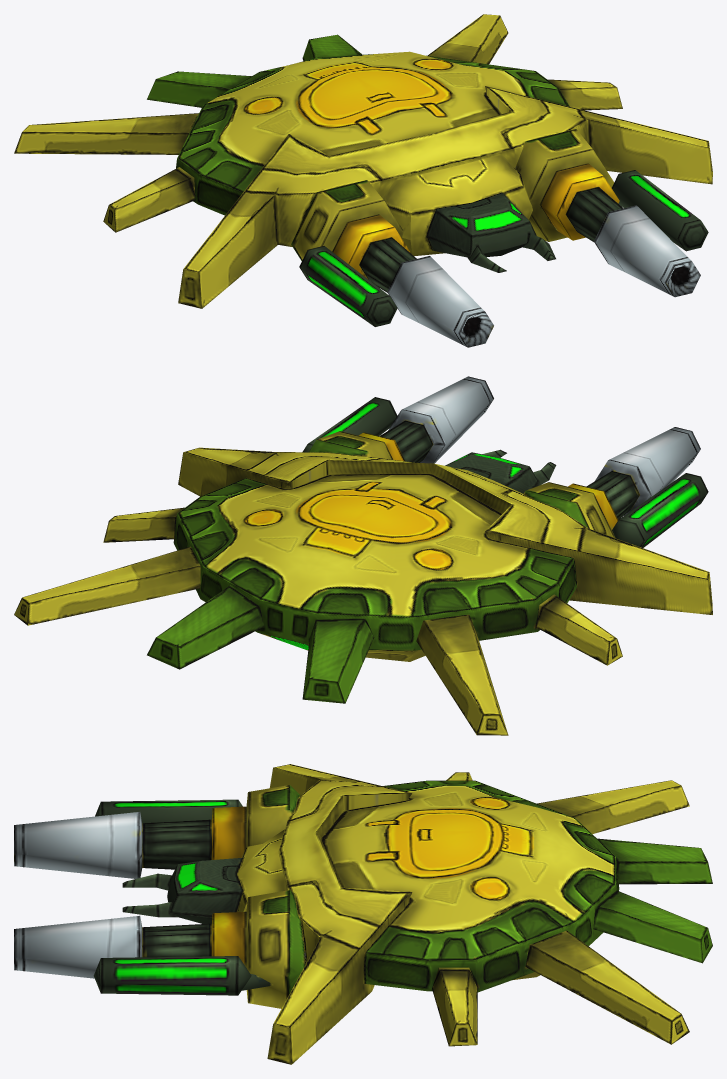
Rendered from Ship_Enemy_01.FBX.
3 renders of one model, top to bottom at view 1: azimuth 30°, elevation 25°; view 2: azimuth 150°, elevation 25°; view 3: azimuth 270°, elevation 25°, orthographic. The views are drawn at different scales.
Parts seen in each view (by area): view 1: Ship_Enemy_01; view 2: Ship_Enemy_01; view 3: Ship_Enemy_01.
Boxes of the visible parts, x1,y1,x2,y2 form: Ship_Enemy_01: [14, 14, 712, 347]; Ship_Enemy_01: [14, 376, 712, 735]; Ship_Enemy_01: [14, 764, 712, 1064].
Bounding box in the file's own units: 121 × 133 × 25.46.
